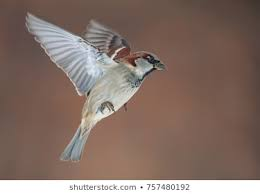hsparrow: (25, 10, 169, 163)
